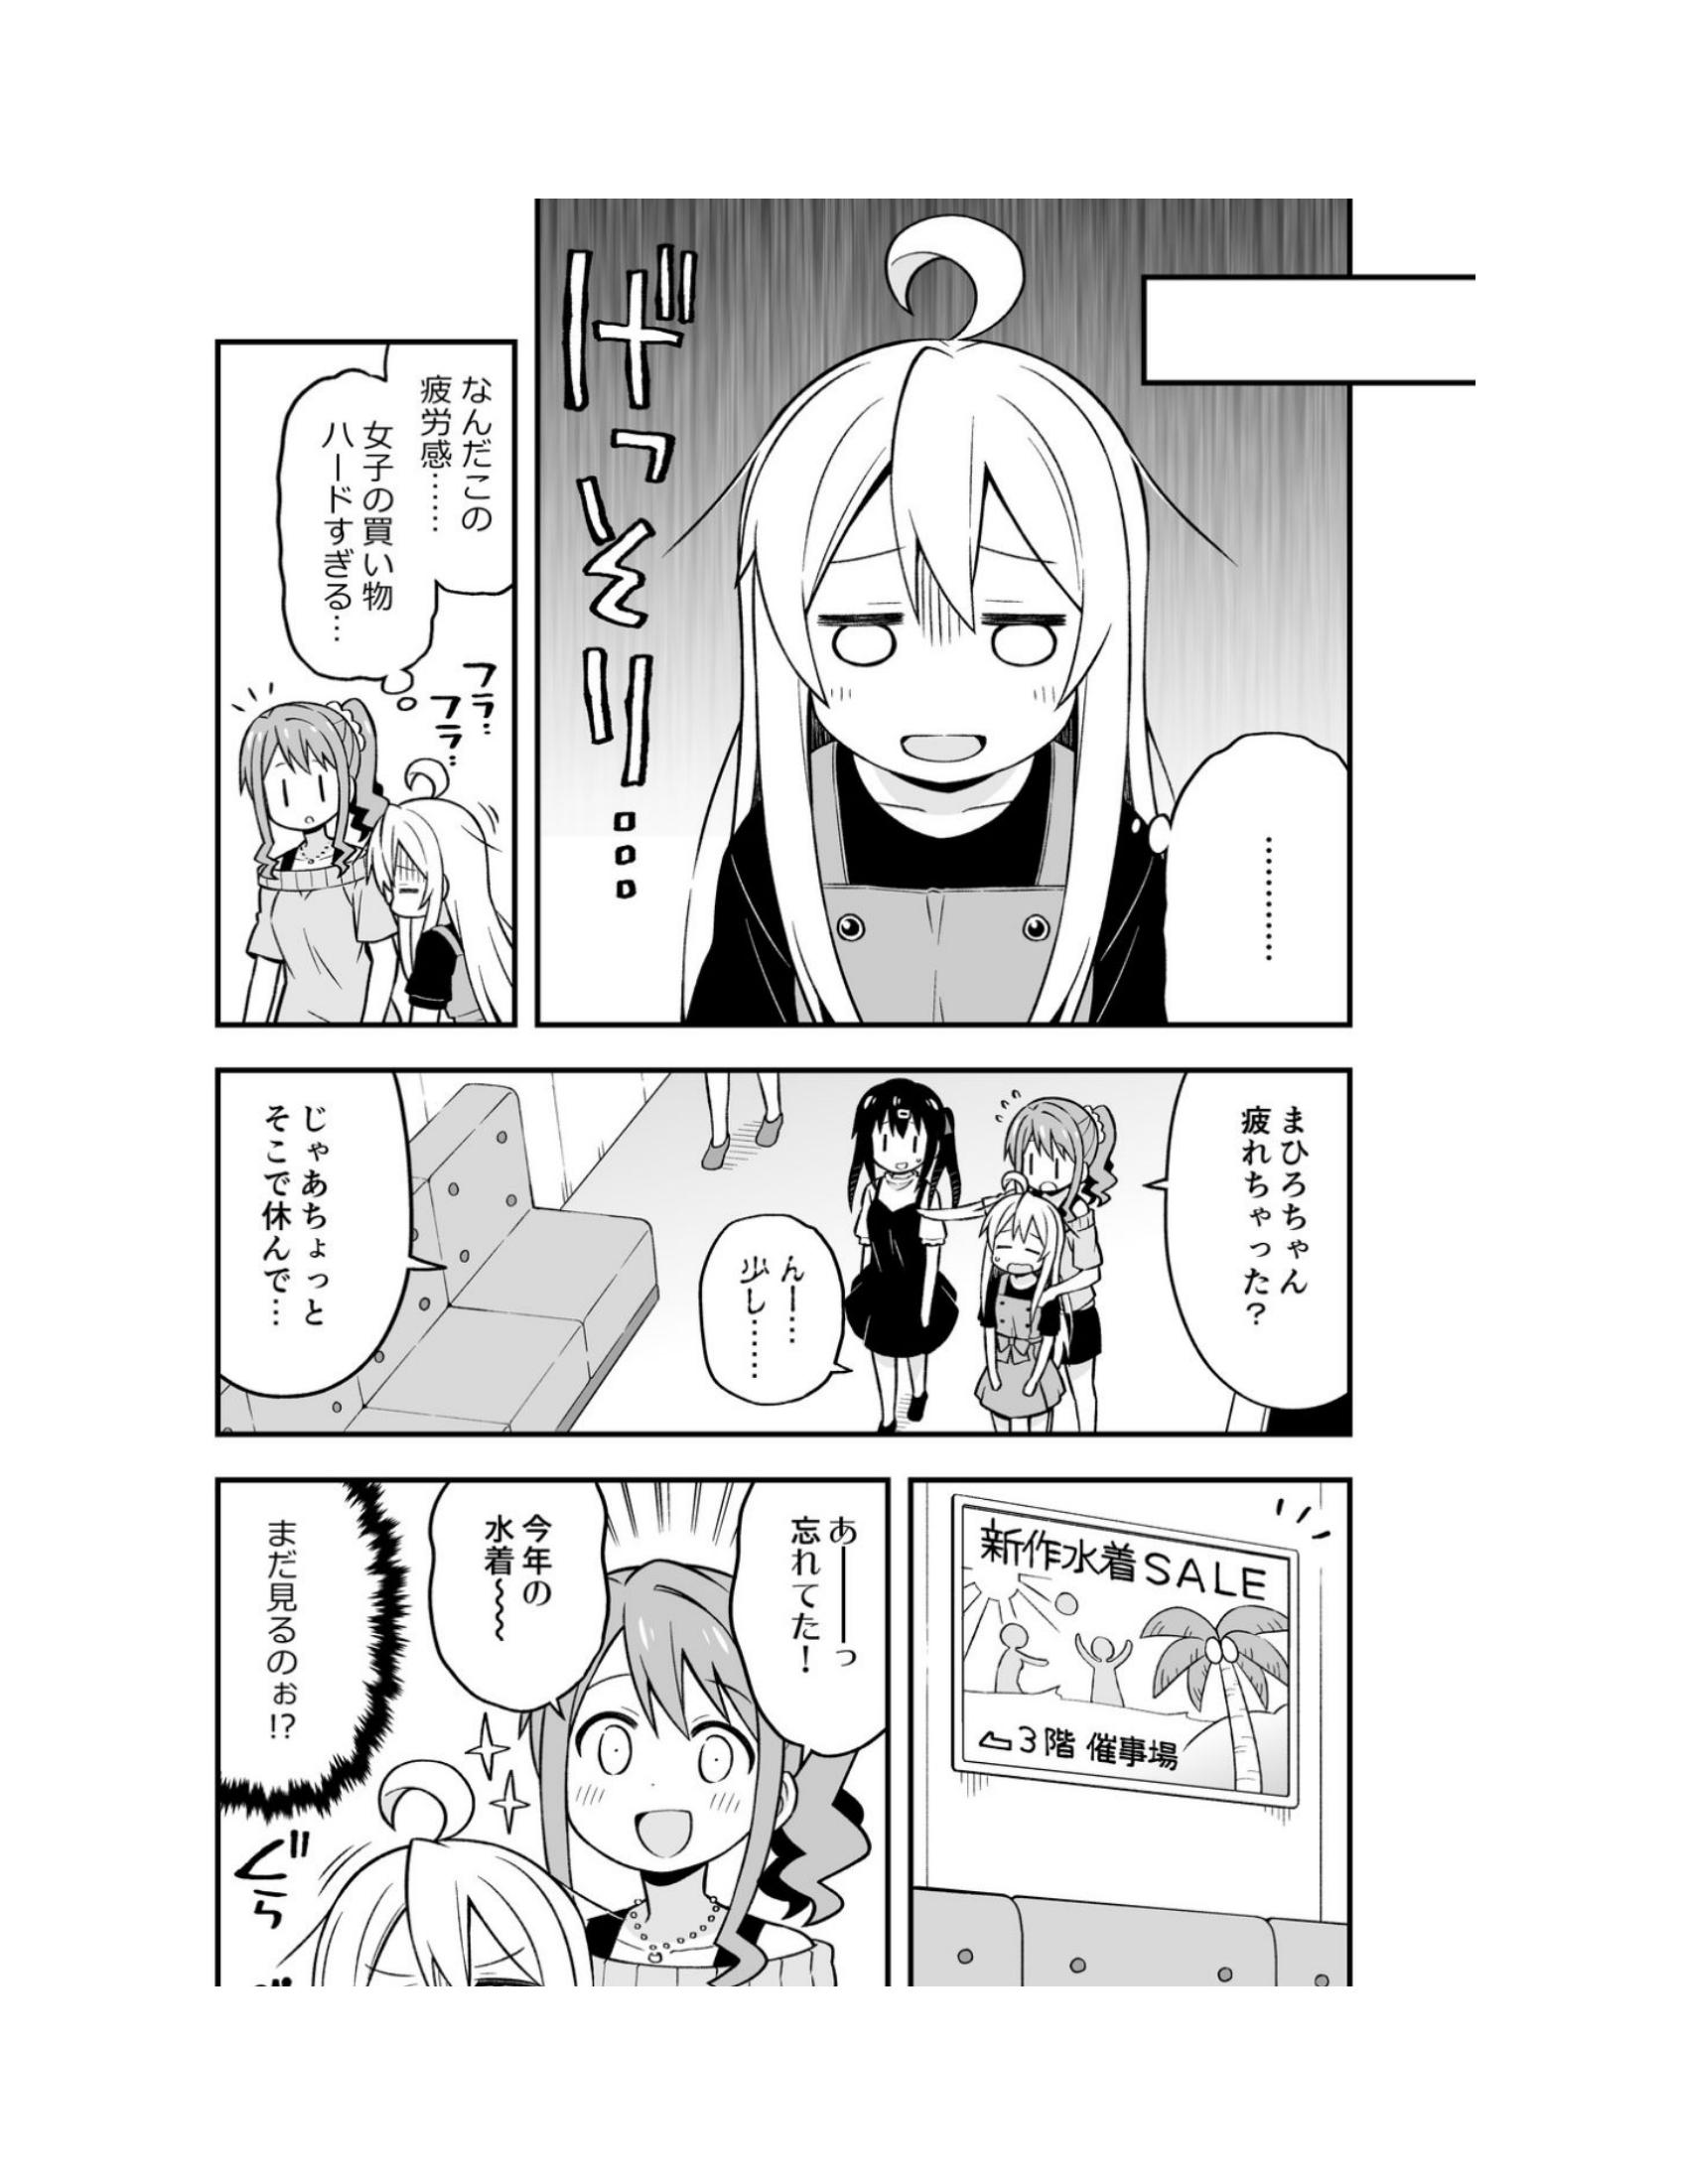a: (261, 353, 530, 700), (227, 1060, 486, 1404), (1149, 1053, 1369, 1434), (215, 1477, 426, 1854), (426, 1491, 654, 1776), (743, 1471, 920, 1764), (688, 1214, 890, 1420)
